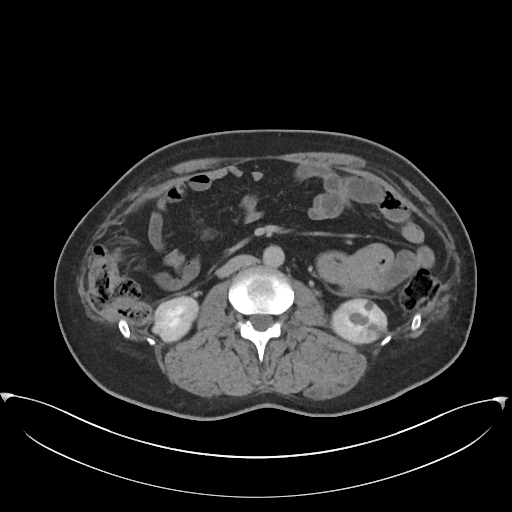Lesion: (368, 321, 389, 342)
